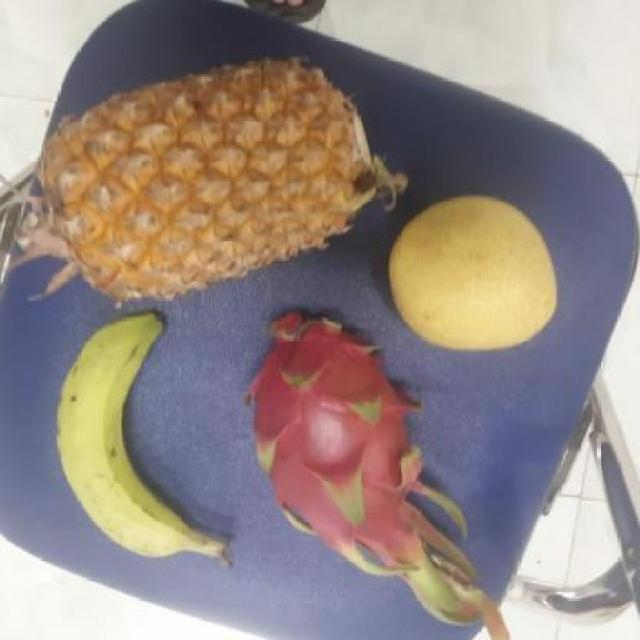banana: (52, 315, 212, 557)
dragon fruit: (234, 313, 451, 552)
pear: (380, 196, 558, 349)
pineapple: (30, 57, 368, 300)
